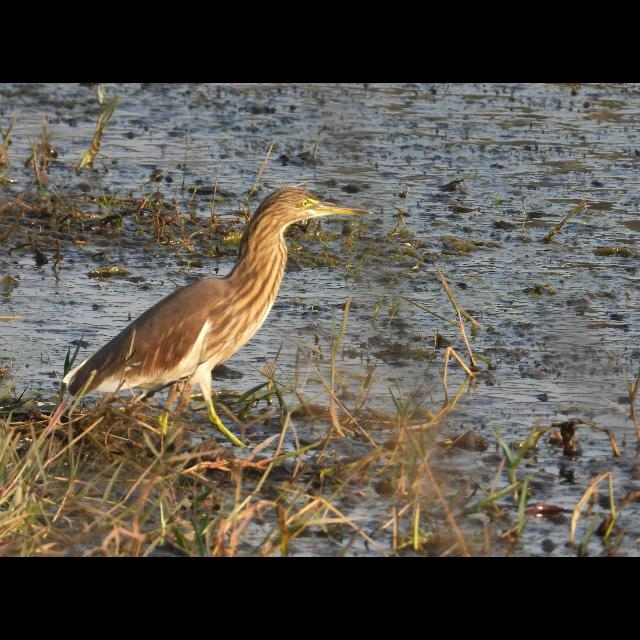heron: (71, 185, 366, 442)
